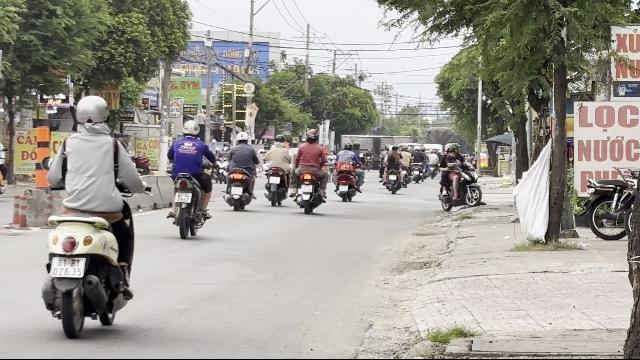helmet: (74, 94, 110, 130), (181, 120, 199, 136)
licenseplate: (50, 256, 86, 276), (174, 192, 192, 202)
motorcyclist: (41, 92, 148, 336), (163, 119, 214, 238)
